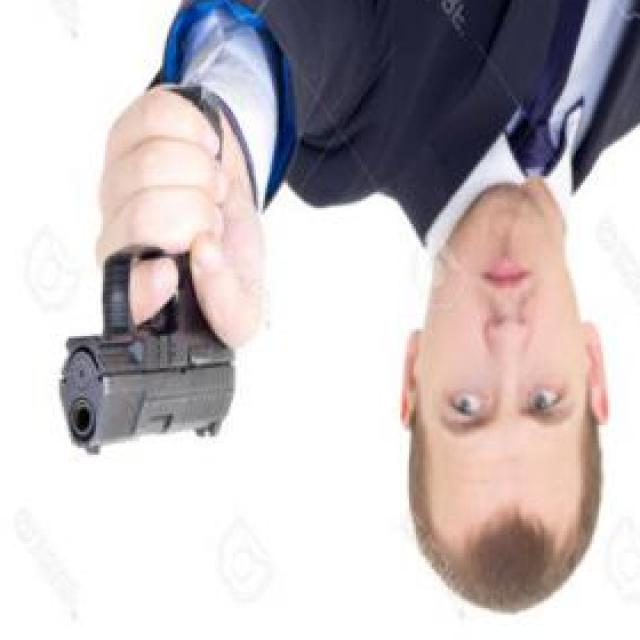pistol: (55, 240, 238, 459)
